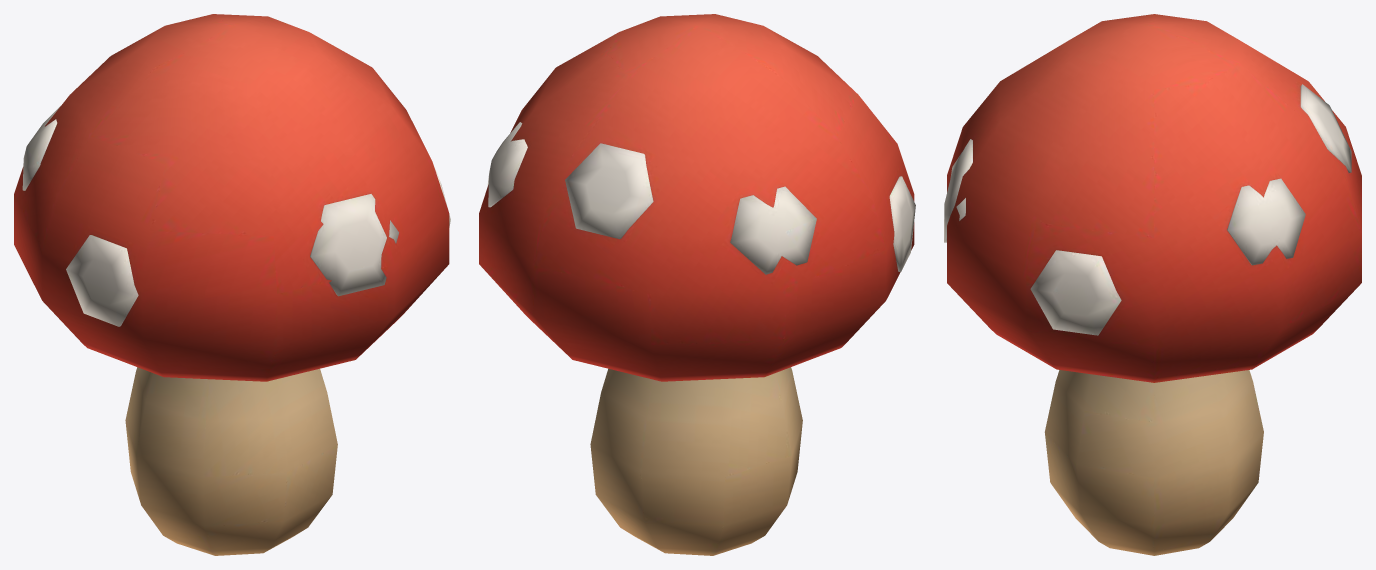
File: mushroom_red_1_low.glb
3 renders of one model, left to right at view 1: azimuth 30°, elevation 25°; view 2: azimuth 150°, elevation 25°; view 3: azimuth 270°, elevation 25°, orthographic.
Parts seen in each view (by area): view 1: cap, mushroom_red_1; view 2: cap, mushroom_red_1; view 3: cap, mushroom_red_1.
Part boxes in pixels (x1,y1,x2,y2): cap: (14,14,450,381); mushroom_red_1: (125,367,337,555); cap: (479,14,915,381); mushroom_red_1: (590,367,802,555); cap: (944,14,1361,382); mushroom_red_1: (1044,370,1263,555).
Size of the model in its own units: 0.546 by 0.7 by 0.5228.
Materials: 1 (1 with a texture image).
